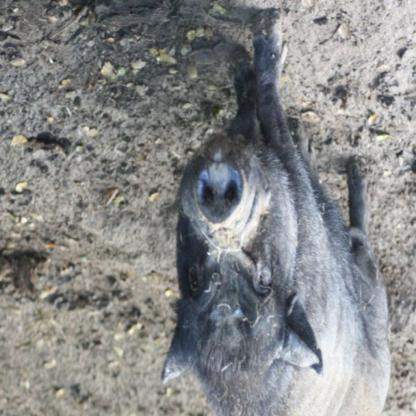boar: (161, 8, 392, 416)
